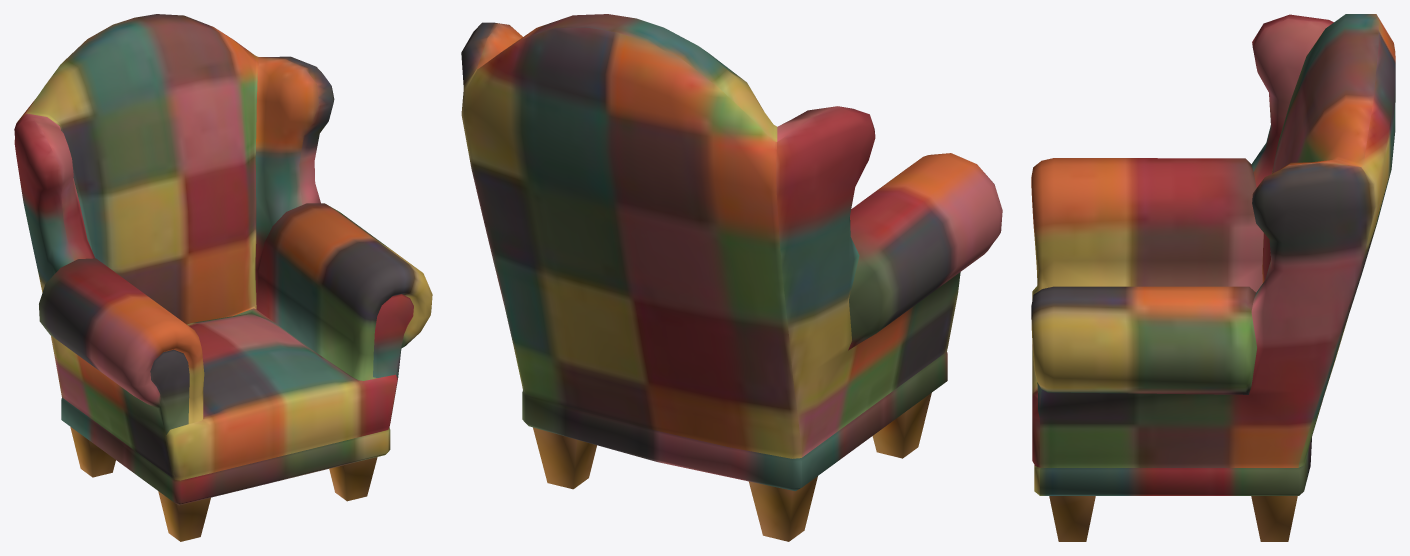
The picture shows the model from 3 angles, left to right: view 1: azimuth 30°, elevation 25°; view 2: azimuth 150°, elevation 25°; view 3: azimuth 270°, elevation 25°; orthographic projection. The views are drawn at different scales.
Bounding box in the file's own units: 10 × 12.4 × 8.92.
1 material, 1 textured.
